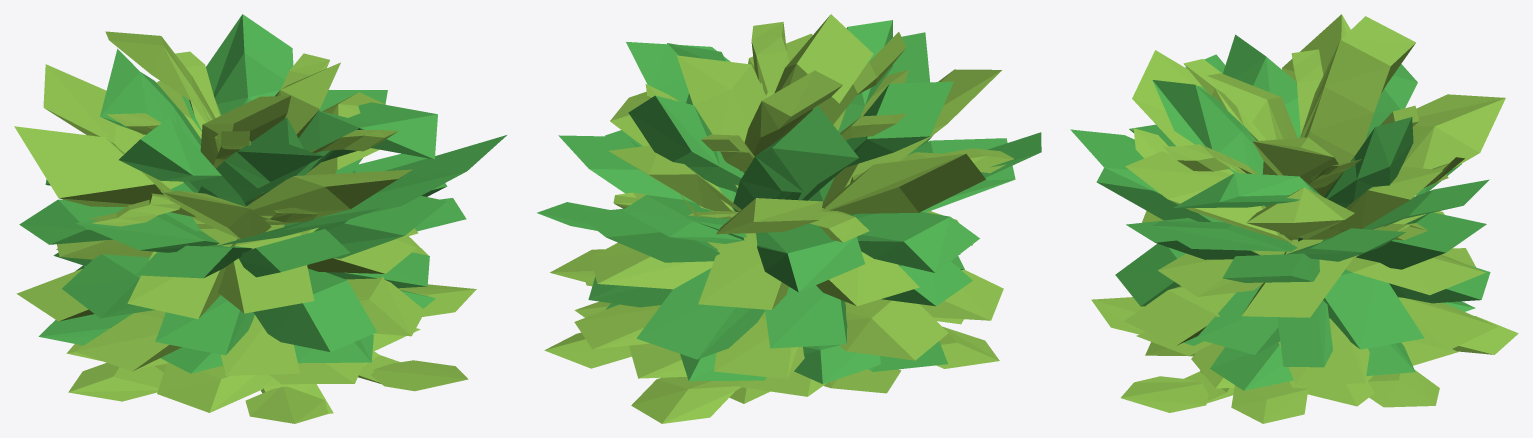
3 renders of one model, left to right at view 1: azimuth 30°, elevation 25°; view 2: azimuth 150°, elevation 25°; view 3: azimuth 270°, elevation 25°, orthographic. The views are drawn at different scales.
Parts seen in each view (by area): view 1: default; view 2: default; view 3: default.
Part boxes in pixels (<box>): default: <box>14,14,506,423</box>; default: <box>537,14,1041,423</box>; default: <box>1070,14,1518,423</box>.
Size of the model in its own units: 0.9498 by 0.6539 by 0.9088.
